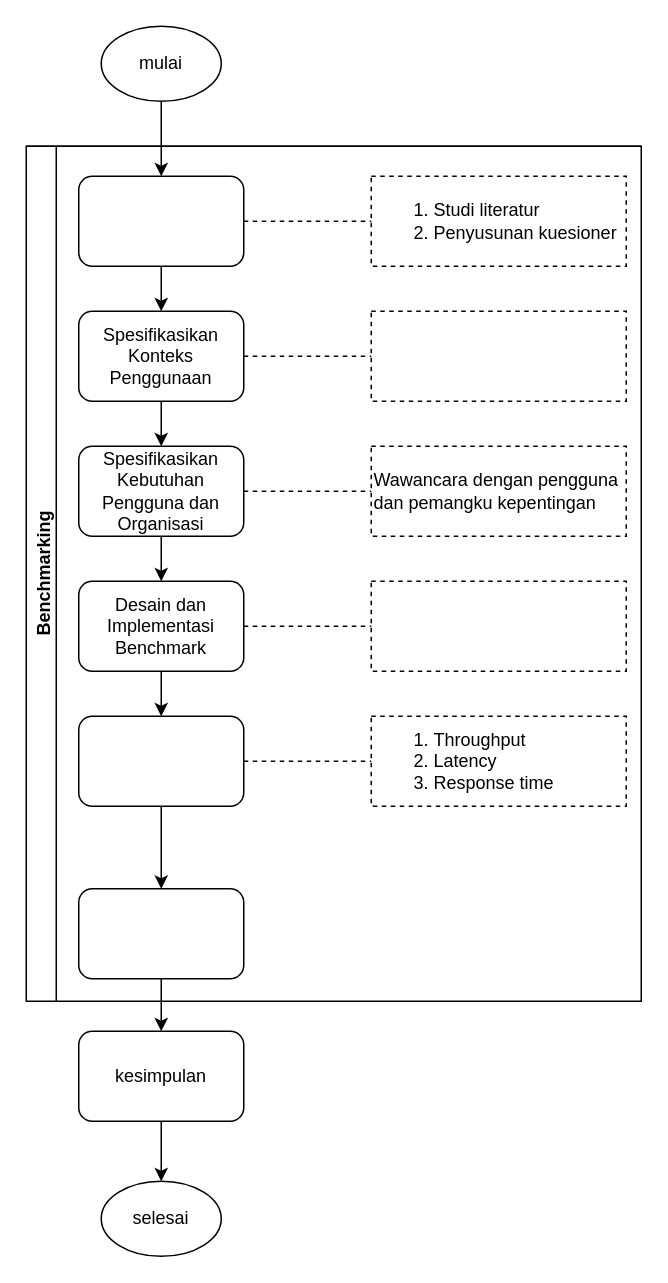
The diagram is 668 pixels wide and 1283 high, and some of its shapes have lost their labels. Here are the shapes that lost their labels. From the top down, the centre of each, then its label:
At pixel 160 220: "Perencanaan Proses Benchmarking".
At pixel 498 355: "Tujuan penggunaan Kondisi dan skenario penggunaan".
At pixel 498 625: "Skenario uji Implementasi benchmark".
At pixel 160 760: "Evaluasi Performa dengan Metrik Benchmarking".
At pixel 160 933: "bandingkan hasil performa".
